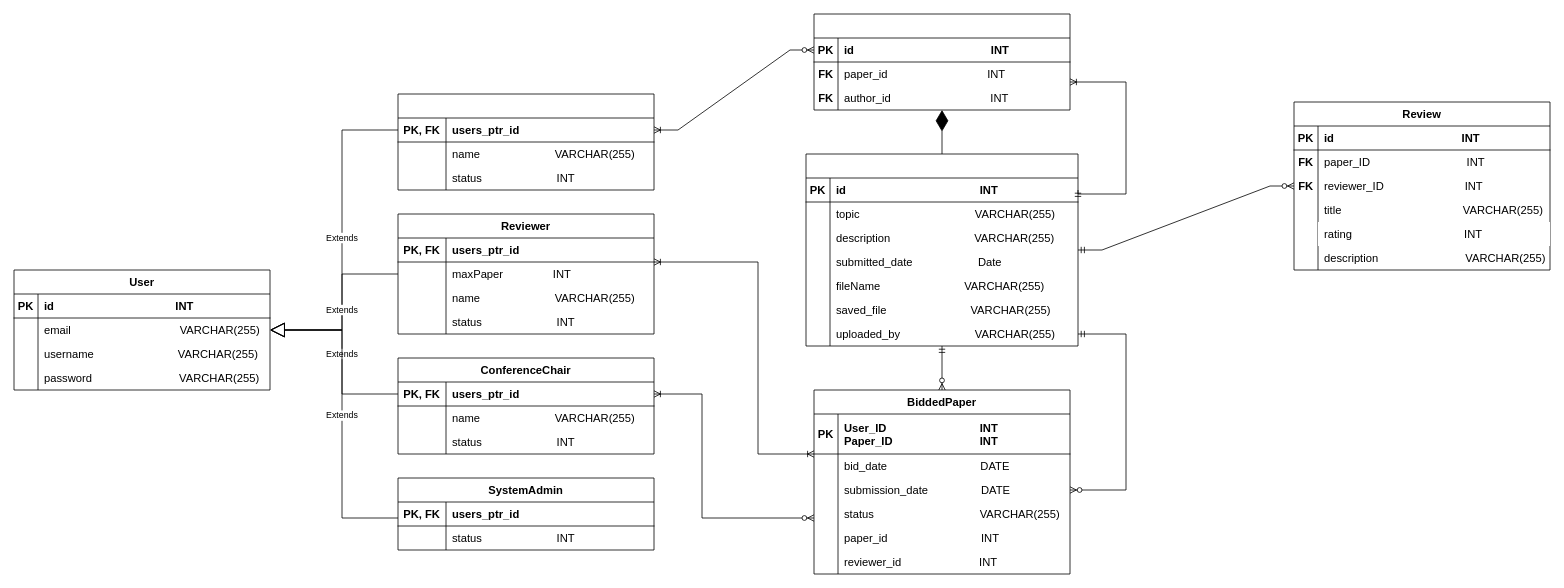
Some shapes in this 1564 by 588 pixel diagram are drawn without their labels. Each missing label, with the box of its shape:
Author: (397, 93, 654, 190)
Paper: (805, 153, 1078, 346)
PaperAuthor: (813, 13, 1070, 110)
